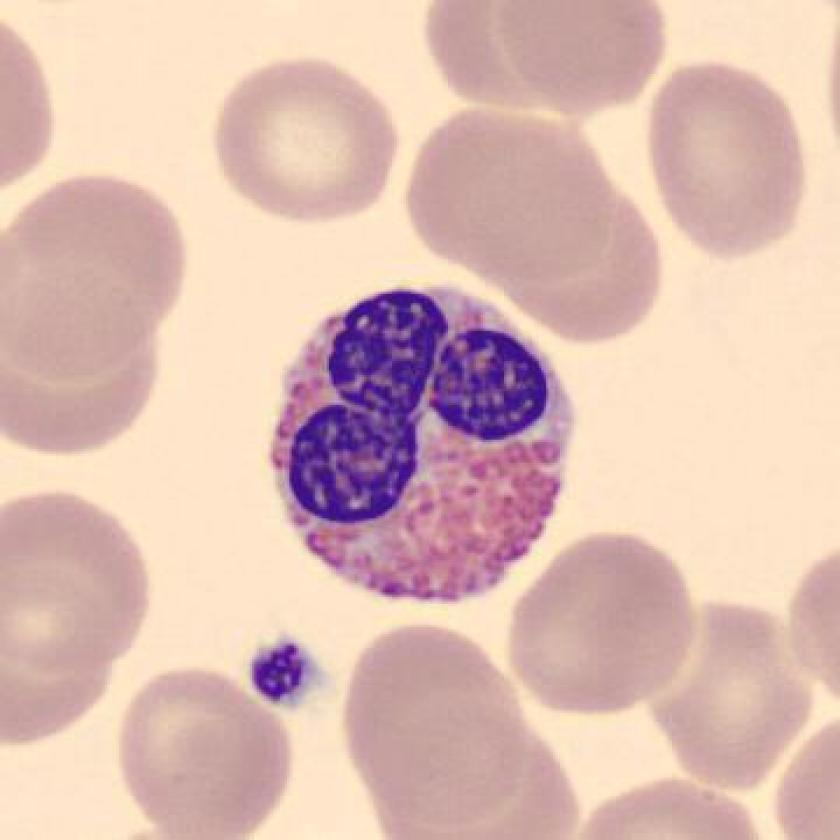eosinophil: (253, 270, 594, 617)
